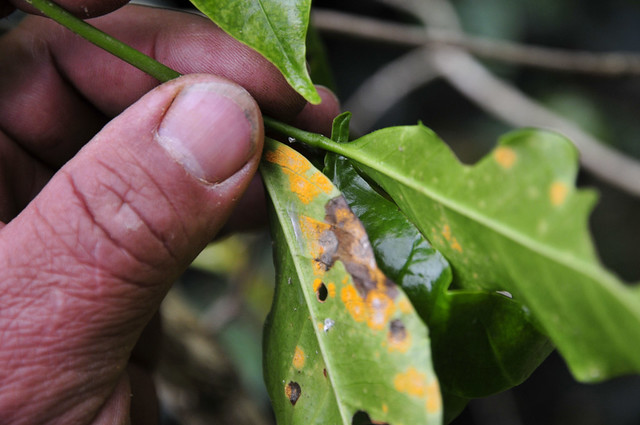roya: (264, 123, 462, 397)
